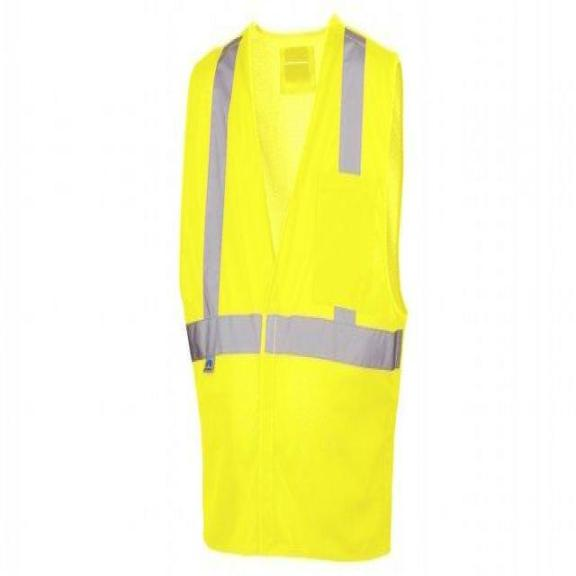safety_vest: (180, 13, 409, 563)
